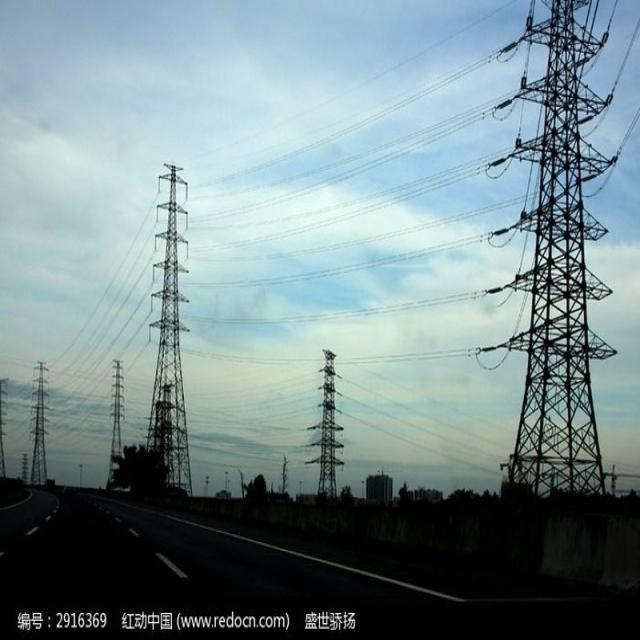non-critical vegetation: (486, 3, 608, 500), (140, 156, 203, 506), (304, 324, 352, 492)
